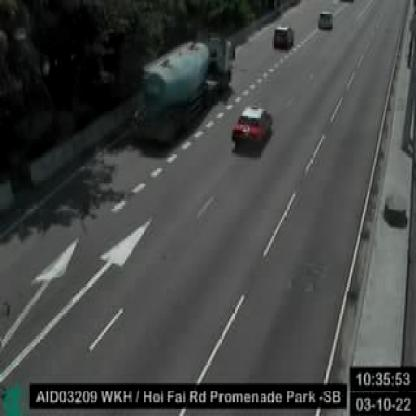Car: (231, 106, 272, 146), (272, 26, 292, 47), (317, 11, 333, 30)
Truck: (130, 35, 234, 138)
